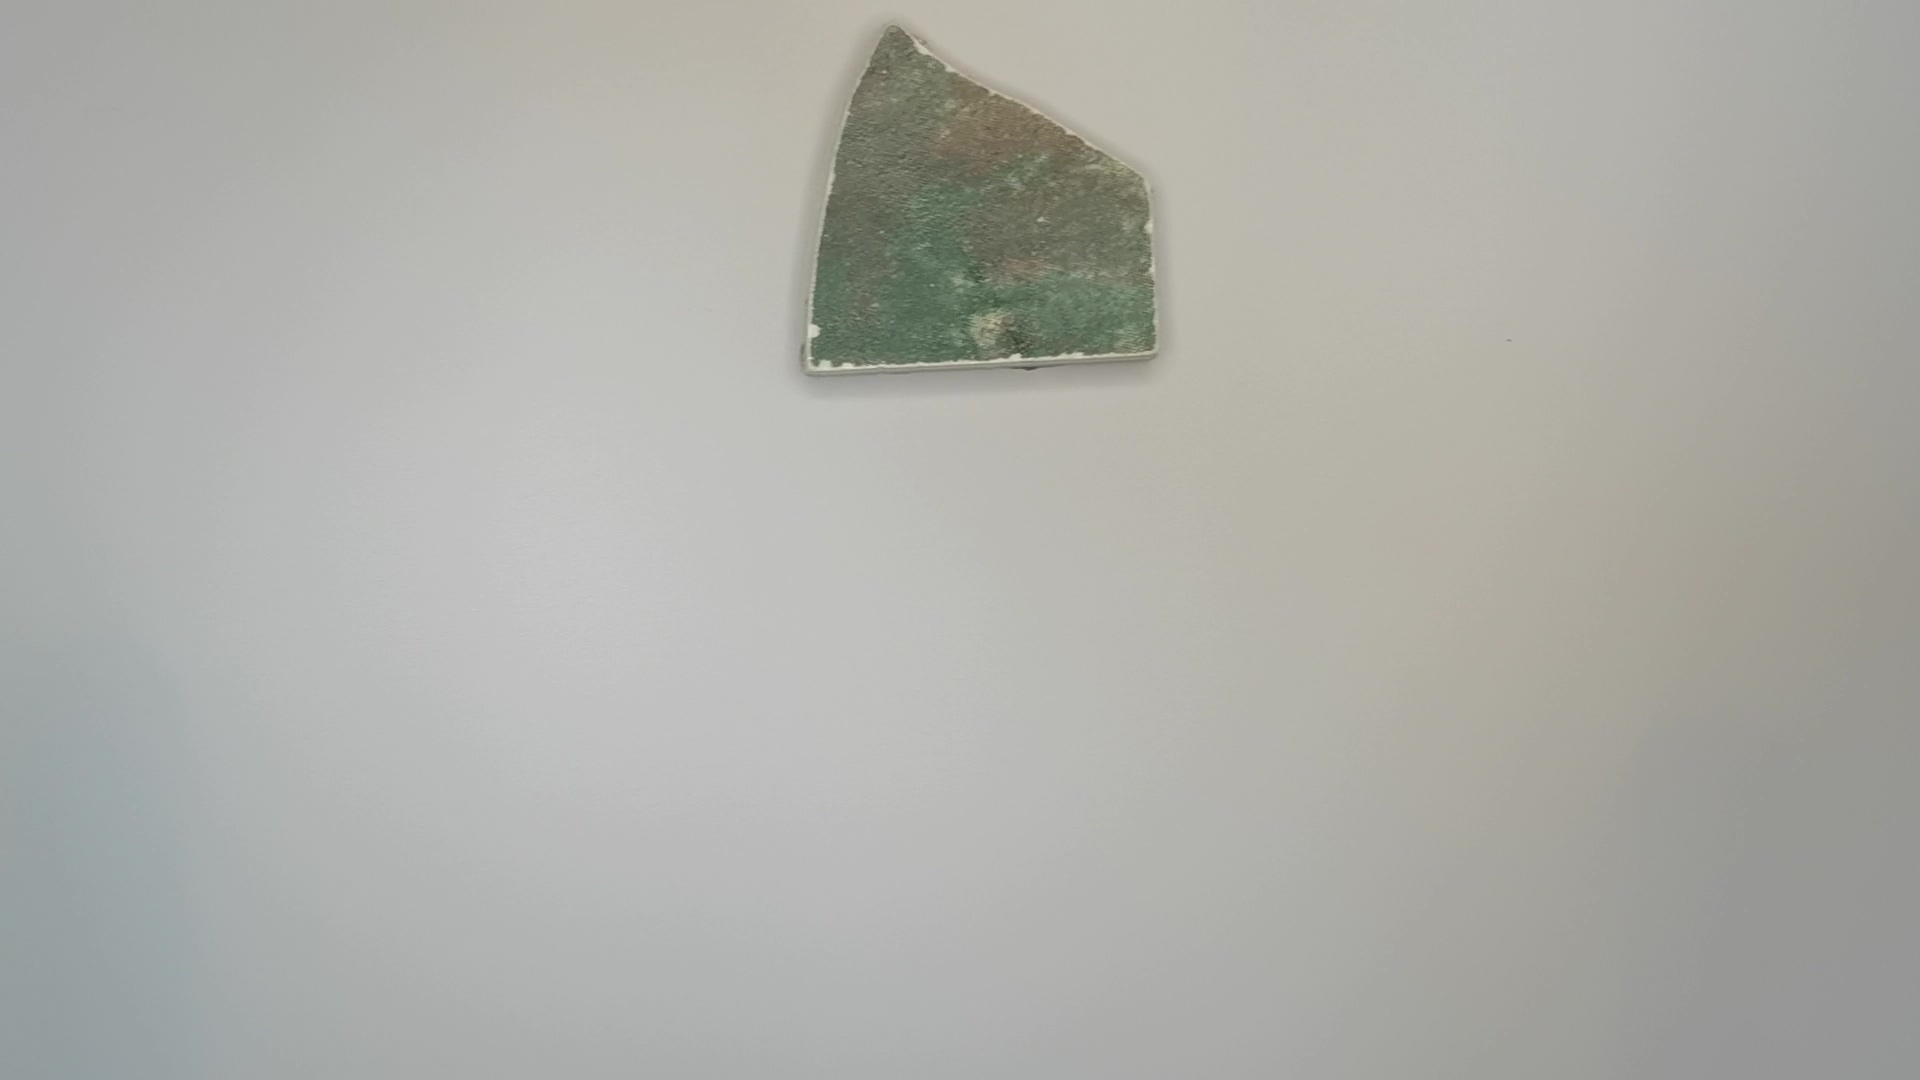ceramic: (791, 22, 1171, 378)
